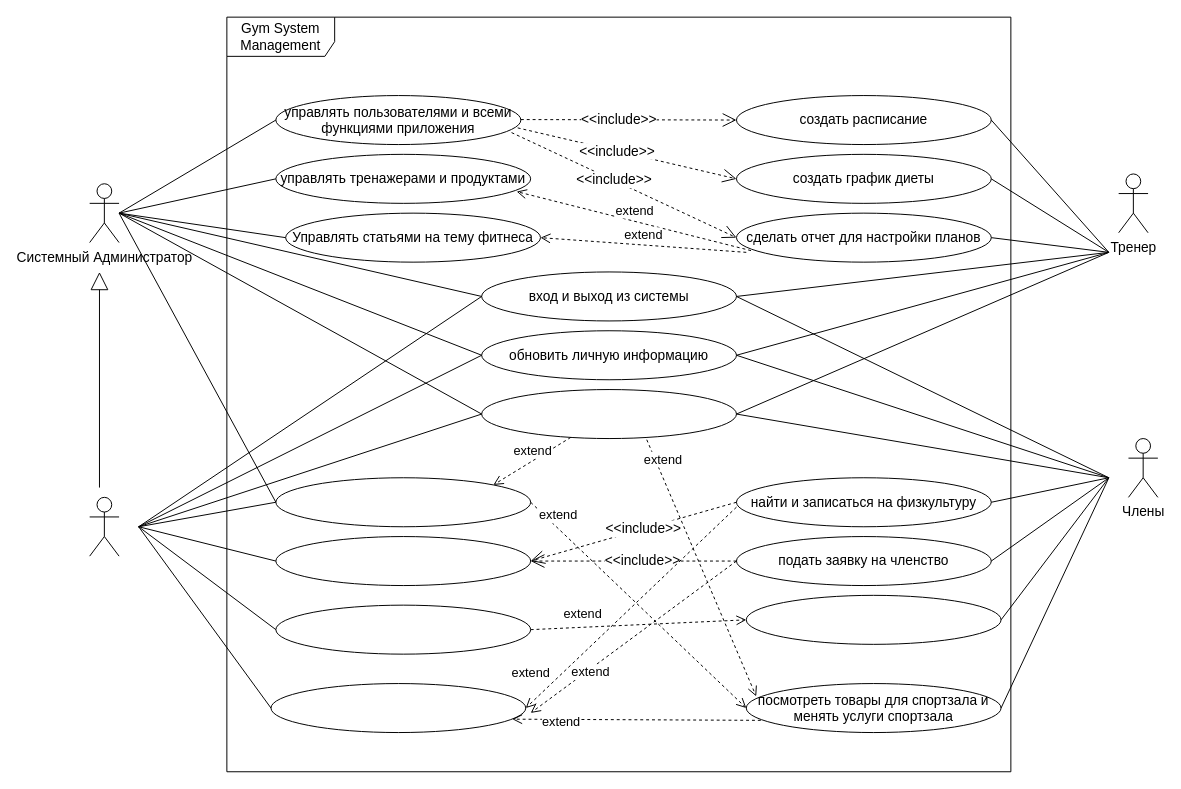
This 1181x789 diagram has some shape labels left out. Here are the shapes that lost their labels. From the top down, the box of each, then its label:
(481, 389, 736, 439): проводить платежи по системе
(275, 477, 531, 527): управлять пакетом
(89, 496, 119, 556): Системный Пользователь
(275, 536, 531, 586): управлять участниками в классе физкультуры
(275, 604, 531, 654): управлять всеми сменами и графиками тренажерного зала
(745, 594, 1001, 644): посмотреть собственный план тренировок
(270, 683, 526, 733): сделать общий отчет
